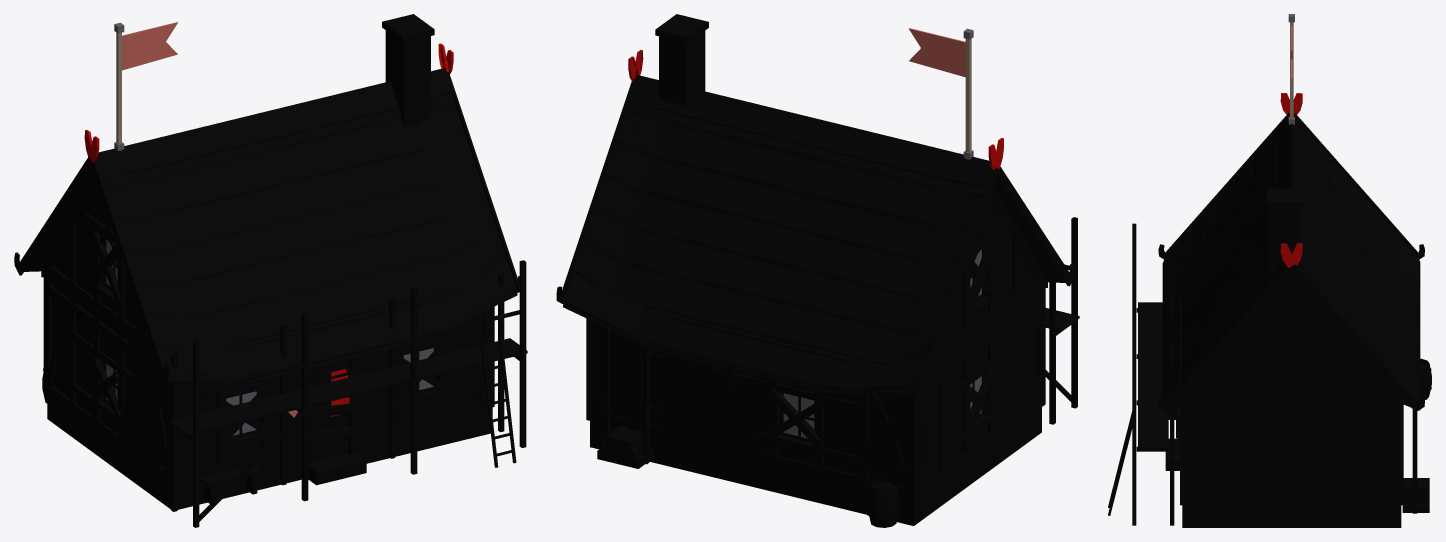
The model's file is wohnhaus_elb_s1_g2.glb.
3 renders of one model, left to right at view 1: azimuth 30°, elevation 25°; view 2: azimuth 150°, elevation 25°; view 3: azimuth 270°, elevation 25°, orthographic. The views are drawn at different scales.
Visible parts, largest first — view 1: Dach, Haus, Geruest, Leerstand, Fahne, Scheiben; view 2: Dach, Haus, Leerstand, Geruest, Fahne, Scheiben; view 3: Haus, Dach, Geruest, Fahne.
Boxes of the visible parts, x1,y1,x2,y2 form: Dach: (14, 43, 519, 381); Haus: (42, 14, 494, 509); Geruest: (169, 260, 527, 527); Leerstand: (90, 231, 448, 442); Fahne: (114, 22, 177, 150); Scheiben: (106, 240, 433, 435); Dach: (556, 50, 1075, 393); Haus: (586, 14, 1046, 527); Leerstand: (768, 238, 998, 445); Geruest: (1045, 217, 1079, 424); Fahne: (909, 28, 973, 159); Scheiben: (783, 250, 981, 438); Haus: (1165, 121, 1431, 527); Dach: (1158, 93, 1424, 412); Geruest: (1108, 223, 1174, 525); Fahne: (1288, 14, 1294, 124).
Bounding box in the file's own units: 7.85 × 9.22 × 7.09.
